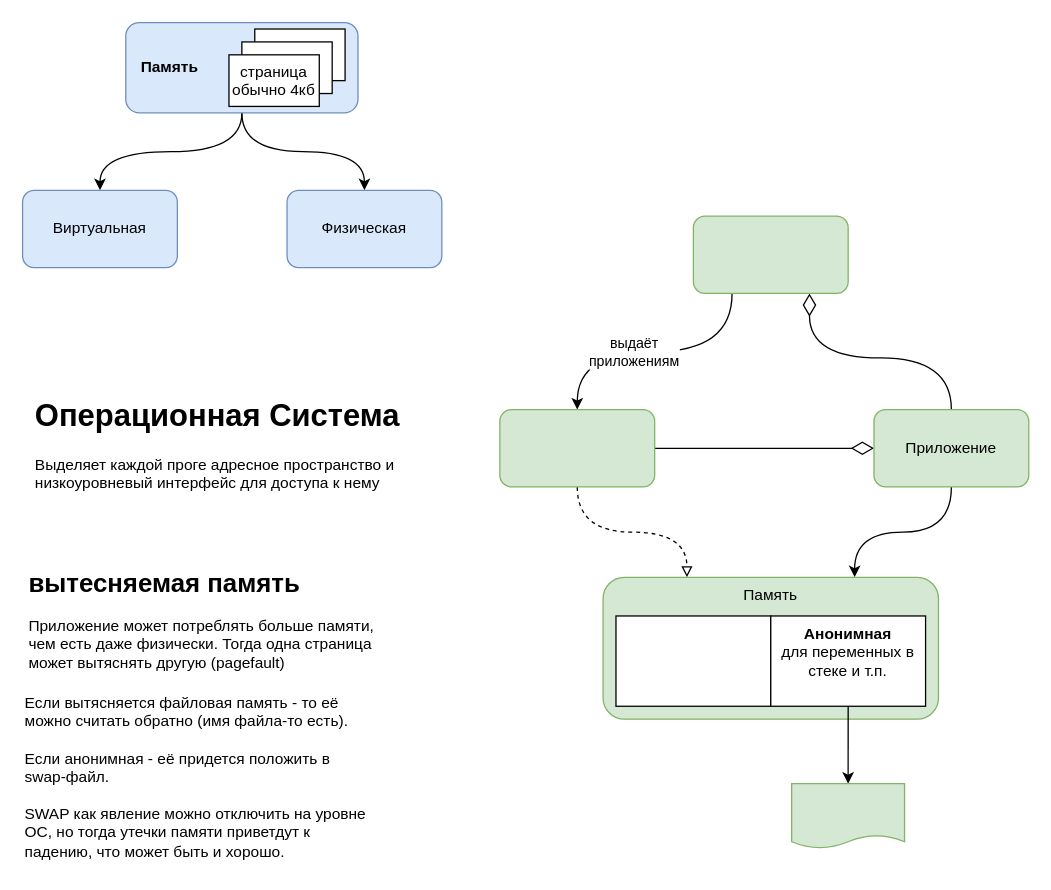
Some shapes in this 1051 by 890 pixel diagram are drawn without their labels. Each missing label, with the centre of its shape:
SWAP-файл: point (847, 815)
Интерфейс для доступа к памяти: point (577, 447)
ОС: point (770, 254)
Файловая явно соответствует именам файлов. Для кода и т.п.: point (693, 660)
